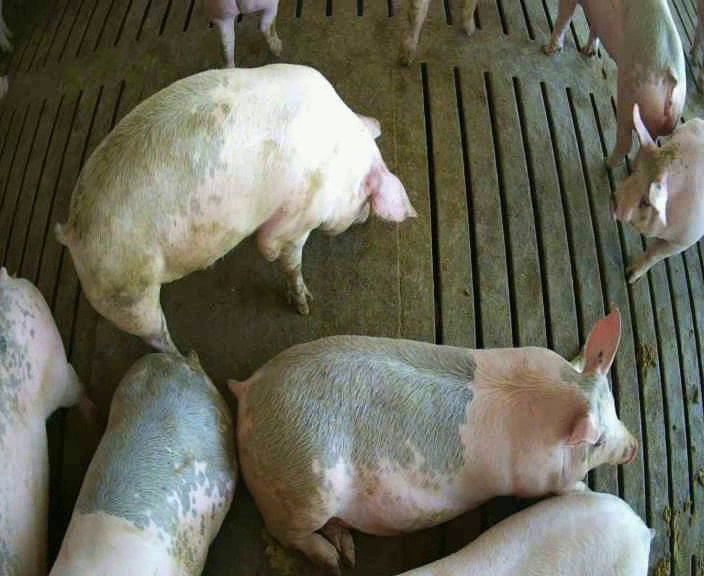pig: (232, 314, 637, 569), (56, 64, 414, 351), (51, 354, 236, 574), (403, 490, 653, 574), (614, 106, 703, 282)
